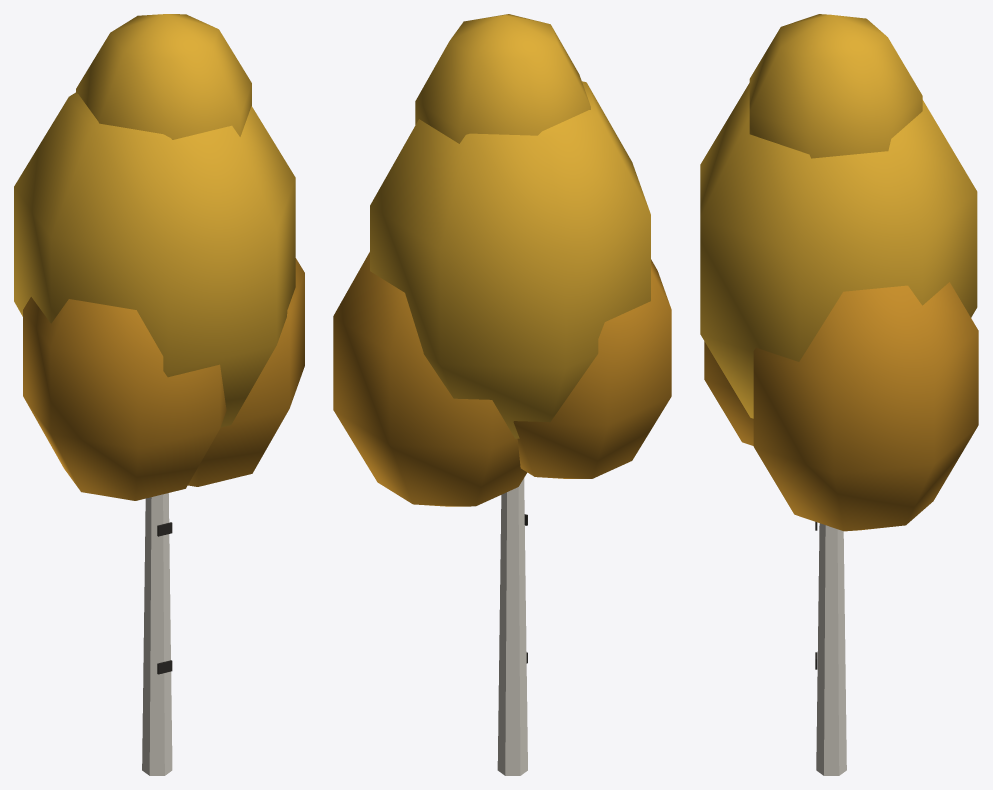
The model's file is tree_birch.glb.
3 views of the same model, side by side, from view 1: azimuth 30°, elevation 25°; view 2: azimuth 150°, elevation 25°; view 3: azimuth 270°, elevation 25° (orthographic).
Visible parts, largest first — view 1: tree_birch; view 2: tree_birch; view 3: tree_birch.
Part boxes in pixels (left/top/right/bottom): tree_birch: left=14, top=14, right=304, bottom=775; tree_birch: left=333, top=14, right=671, bottom=775; tree_birch: left=700, top=14, right=978, bottom=775.
Size of the model in its own units: 3.42 by 8.75 by 2.91.
